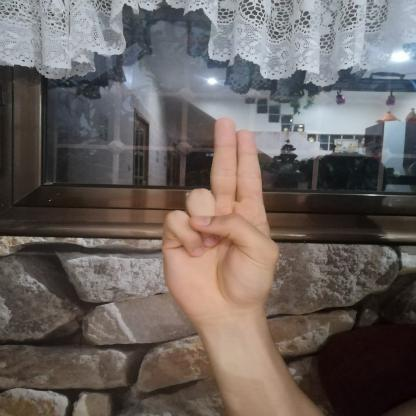TA: (141, 106, 296, 325)
